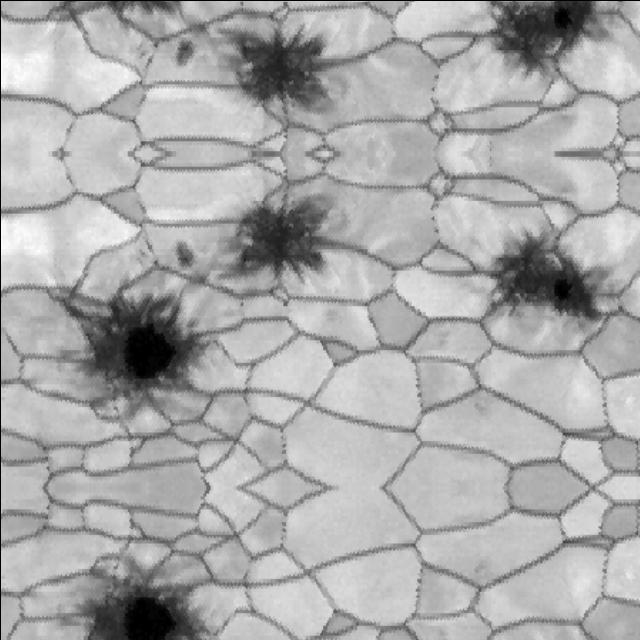good_void: (212, 166, 344, 314), (63, 278, 207, 402), (473, 220, 618, 336), (481, 0, 612, 76), (68, 580, 203, 640), (159, 234, 202, 277), (159, 27, 202, 70), (128, 243, 153, 269), (128, 35, 153, 61), (108, 401, 123, 415), (108, 559, 123, 573), (233, 294, 247, 308), (234, 0, 247, 6)
